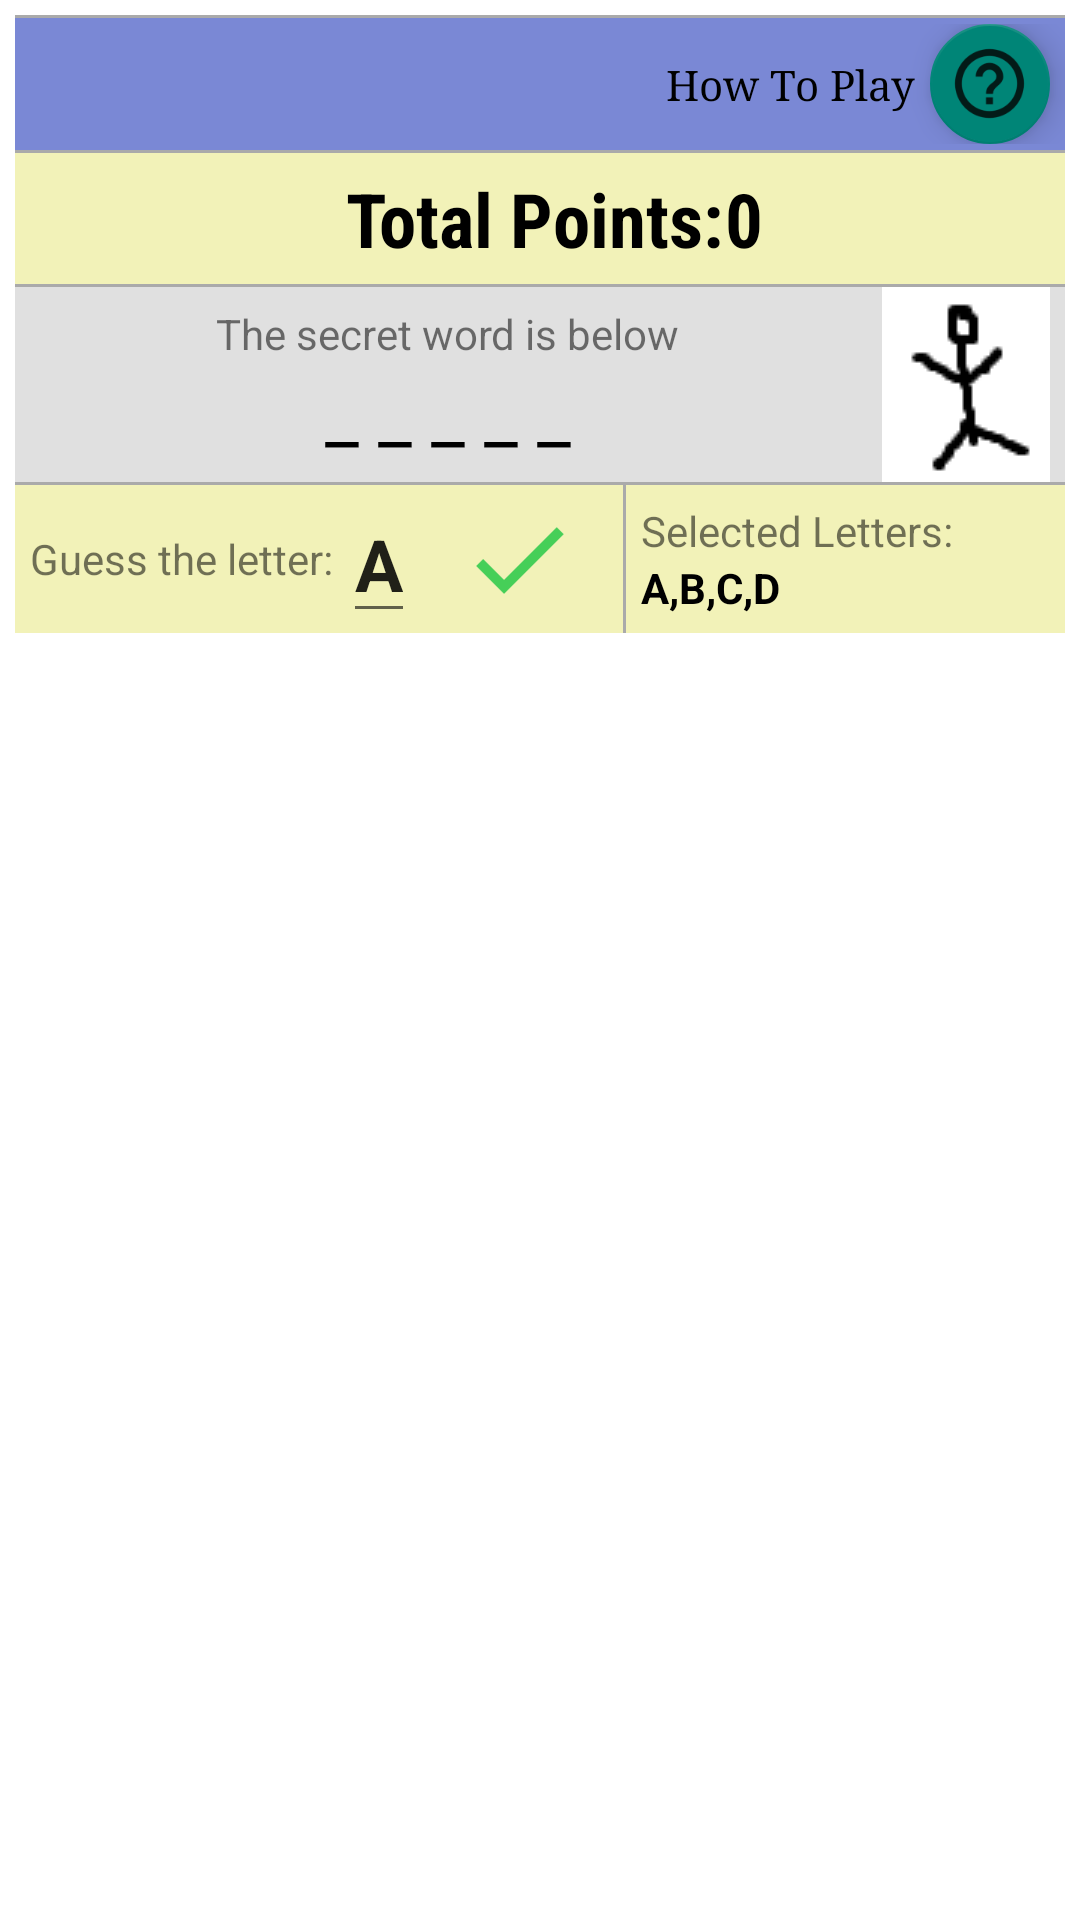

Icons on this 1080px x 1920px Android screen, each with the point to tap as (x,y):
correctletter: (520,560)
knowhow: (990,84)
